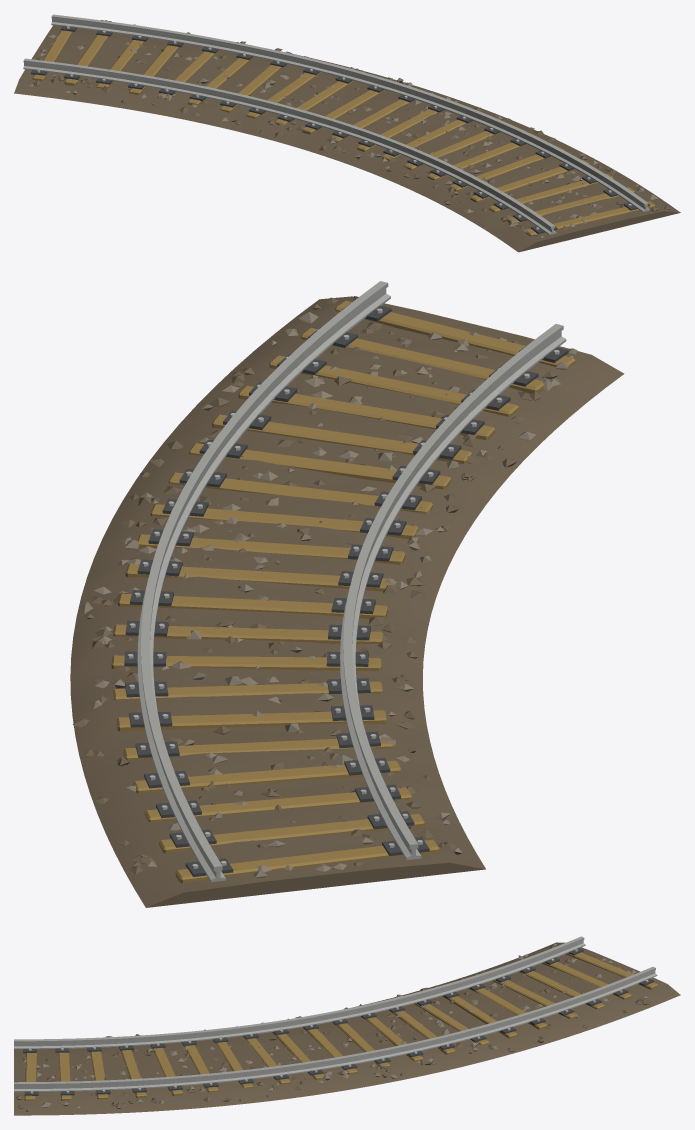
The model's file is legacy-curved-rail.glb.
3 views of the same model, one above another, from view 1: azimuth 30°, elevation 25°; view 2: azimuth 150°, elevation 25°; view 3: azimuth 270°, elevation 25° (orthographic). The views are drawn at different scales.
Parts seen in each view (by area): view 1: body; view 2: body; view 3: body.
Boxes of the visible parts, bbox=[...] form: body: bbox=[14, 14, 680, 252]; body: bbox=[70, 281, 624, 907]; body: bbox=[14, 936, 680, 1115].
Size of the model in its own units: 4.74 by 0.2182 by 7.72.
